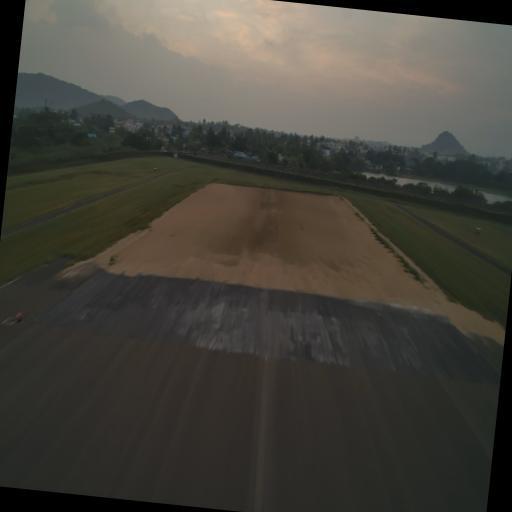on: (13, 304, 25, 328)
